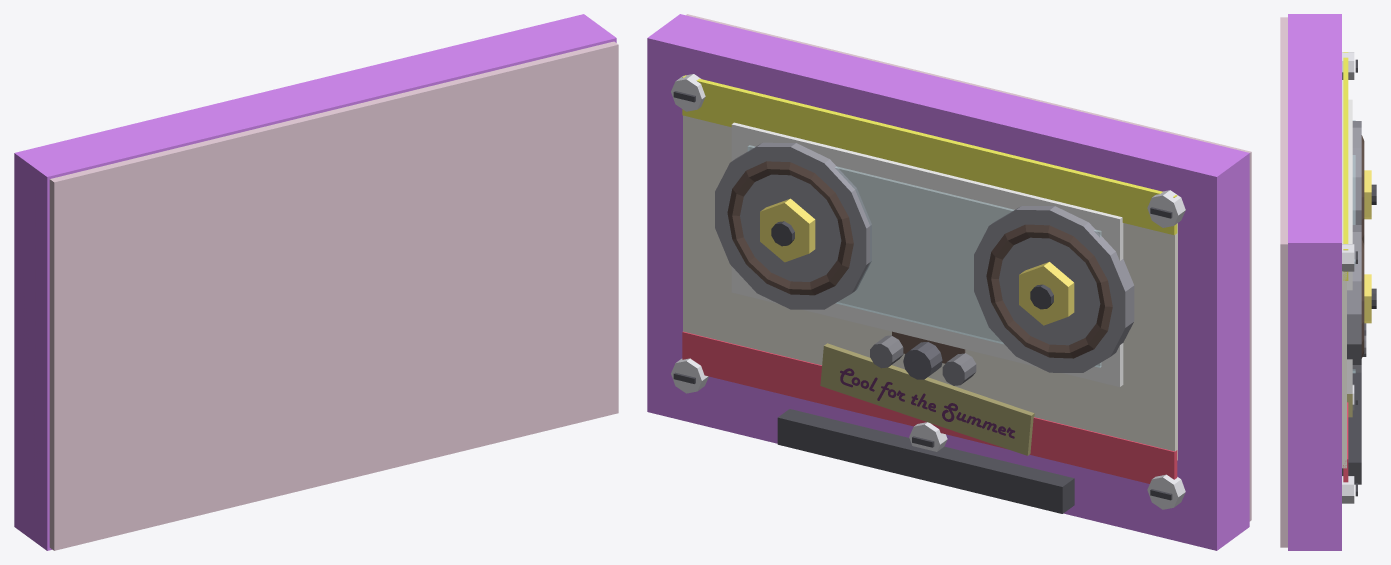
File: cassetteCoolfortheSummer.glb
3 views of the same model, side by side, from view 1: azimuth 30°, elevation 25°; view 2: azimuth 150°, elevation 25°; view 3: azimuth 270°, elevation 25° (orthographic). The views are drawn at different scales.
Parts seen in each view (by area): view 1: ShellBack, Shell; view 2: Shell, Label, WindowFrame, WindowGlass, StripeTop, Reel_L, Reel_R, StripeBot, TapeOpening, Plane, Tape_L, Tape_R (+11 smaller); view 3: Shell, ShellBack, Reel_R, Label, TapeOpening, StripeTop, WindowFrame, Reel_L, Tape_R, Tape_L, Hub_L, Hub_R (+5 smaller).
Boxes of the visible parts, x1=… form: ShellBack: x1=49, y1=41, x2=618, y2=550; Shell: x1=14, y1=14, x2=616, y2=550; Shell: x1=647, y1=14, x2=1249, y2=550; Label: x1=683, y1=115, x2=1177, y2=460; WindowFrame: x1=731, y1=122, x2=1123, y2=386; WindowGlass: x1=747, y1=145, x2=1101, y2=367; StripeTop: x1=682, y1=75, x2=1177, y2=235; Reel_L: x1=974, y1=206, x2=1134, y2=372; Reel_R: x1=715, y1=142, x2=871, y2=309; StripeBot: x1=682, y1=331, x2=1177, y2=483; TapeOpening: x1=777, y1=409, x2=1074, y2=513; Plane: x1=820, y1=343, x2=1034, y2=455; Tape_L: x1=986, y1=224, x2=1112, y2=358; Tape_R: x1=727, y1=161, x2=853, y2=295; Shell: x1=1288, y1=14, x2=1341, y2=550; ShellBack: x1=1280, y1=17, x2=1287, y2=547; Reel_R: x1=1347, y1=225, x2=1361, y2=372; Label: x1=1342, y1=80, x2=1346, y2=468; TapeOpening: x1=1342, y1=372, x2=1361, y2=484; StripeTop: x1=1343, y1=52, x2=1348, y2=280; WindowFrame: x1=1347, y1=99, x2=1352, y2=393; Reel_L: x1=1352, y1=121, x2=1361, y2=224; Tape_R: x1=1361, y1=239, x2=1364, y2=358; Tape_L: x1=1361, y1=135, x2=1364, y2=244; Hub_L: x1=1364, y1=170, x2=1371, y2=219; Hub_R: x1=1364, y1=274, x2=1371, y2=323.
Size of the model in its own units: 2.2 by 1.38 by 0.39.
